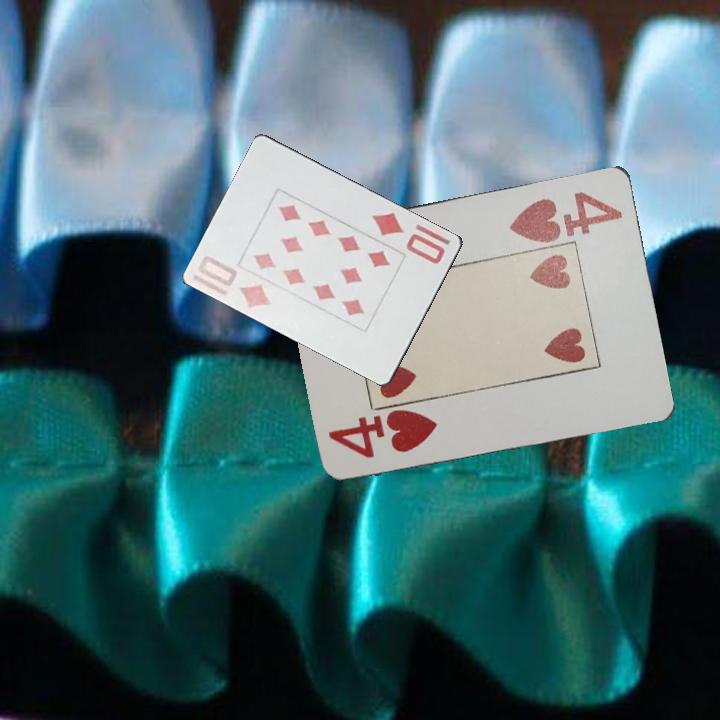4h: (506, 187, 626, 245), (325, 406, 441, 461)
Td: (194, 252, 275, 310), (369, 208, 448, 267)
